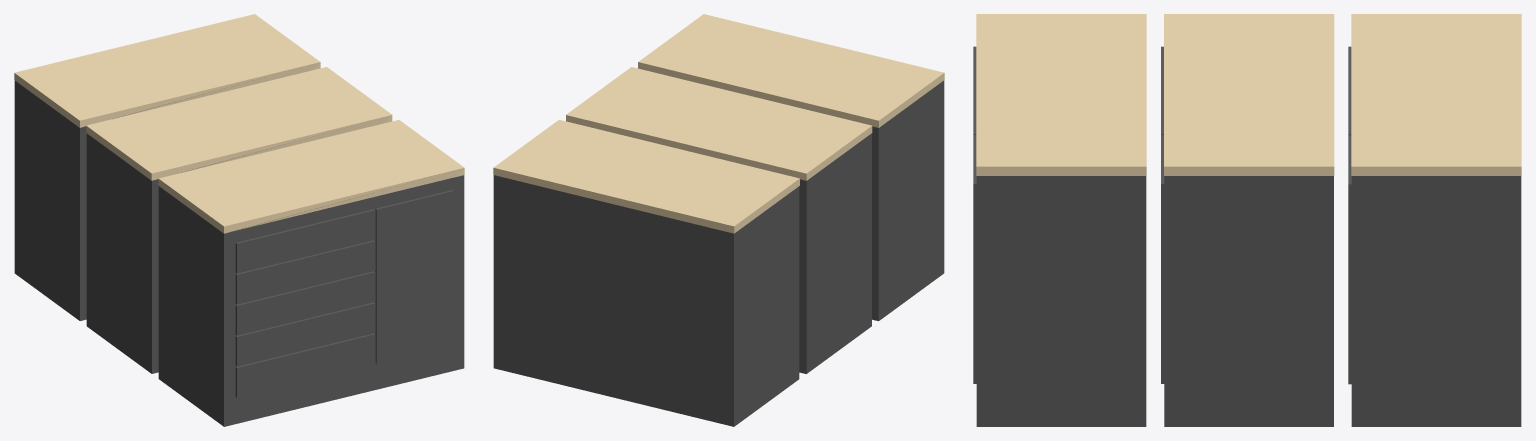
3 views of the same model, side by side, from view 1: azimuth 30°, elevation 25°; view 2: azimuth 150°, elevation 25°; view 3: azimuth 270°, elevation 25° (orthographic). The views are drawn at different scales.
Parts seen in each view (by area): view 1: imagetostl_mesh4, imagetostl_mesh44, imagetostl_mesh92, imagetostl_mesh9, imagetostl_mesh90, imagetostl_mesh45, imagetostl_mesh2, imagetostl_mesh35, imagetostl_mesh10, imagetostl_mesh30, imagetostl_mesh15, imagetostl_mesh25 (+9 smaller); view 2: imagetostl_mesh93, imagetostl_mesh44, imagetostl_mesh4, imagetostl_mesh92, imagetostl_mesh2, imagetostl_mesh90, imagetostl_mesh45, imagetostl_mesh89, imagetostl_mesh5, imagetostl_mesh52, imagetostl_mesh122, imagetostl_mesh125 (+3 smaller); view 3: imagetostl_mesh121, imagetostl_mesh124, imagetostl_mesh123, imagetostl_mesh4, imagetostl_mesh44, imagetostl_mesh92, imagetostl_mesh8, imagetostl_mesh86, imagetostl_mesh43, imagetostl_mesh118, imagetostl_mesh38, imagetostl_mesh78.
Boxes of the visible parts, bbox=[...] form: imagetostl_mesh4: bbox=[158, 120, 464, 226]; imagetostl_mesh44: bbox=[86, 67, 391, 173]; imagetostl_mesh92: bbox=[14, 14, 319, 120]; imagetostl_mesh9: bbox=[224, 175, 464, 426]; imagetostl_mesh90: bbox=[14, 80, 79, 320]; imagetostl_mesh45: bbox=[86, 133, 151, 373]; imagetostl_mesh2: bbox=[158, 186, 223, 426]; imagetostl_mesh35: bbox=[376, 191, 453, 363]; imagetostl_mesh10: bbox=[237, 210, 375, 273]; imagetostl_mesh30: bbox=[237, 334, 375, 397]; imagetostl_mesh15: bbox=[237, 241, 375, 304]; imagetostl_mesh25: bbox=[237, 303, 375, 366]; imagetostl_mesh93: bbox=[493, 175, 733, 426]; imagetostl_mesh44: bbox=[566, 67, 871, 173]; imagetostl_mesh4: bbox=[638, 14, 943, 120]; imagetostl_mesh92: bbox=[494, 119, 799, 226]; imagetostl_mesh2: bbox=[878, 80, 944, 320]; imagetostl_mesh90: bbox=[734, 186, 799, 426]; imagetostl_mesh45: bbox=[806, 133, 871, 373]; imagetostl_mesh89: bbox=[493, 167, 734, 233]; imagetostl_mesh5: bbox=[638, 62, 878, 127]; imagetostl_mesh52: bbox=[566, 115, 806, 180]; imagetostl_mesh122: bbox=[799, 179, 806, 373]; imagetostl_mesh125: bbox=[872, 126, 878, 320]; imagetostl_mesh121: bbox=[1351, 176, 1521, 426]; imagetostl_mesh124: bbox=[976, 176, 1146, 426]; imagetostl_mesh123: bbox=[1164, 176, 1333, 426]; imagetostl_mesh4: bbox=[976, 14, 1146, 166]; imagetostl_mesh44: bbox=[1164, 14, 1334, 166]; imagetostl_mesh92: bbox=[1351, 14, 1521, 166]; imagetostl_mesh8: bbox=[976, 166, 1146, 175]; imagetostl_mesh86: bbox=[1351, 166, 1521, 175]; imagetostl_mesh43: bbox=[1164, 166, 1334, 175]; imagetostl_mesh118: bbox=[1348, 184, 1351, 384]; imagetostl_mesh38: bbox=[973, 184, 976, 383]; imagetostl_mesh78: bbox=[1161, 184, 1164, 383].
Bounding box in the file's own units: 0.8213 × 0.6535 × 1.25.
